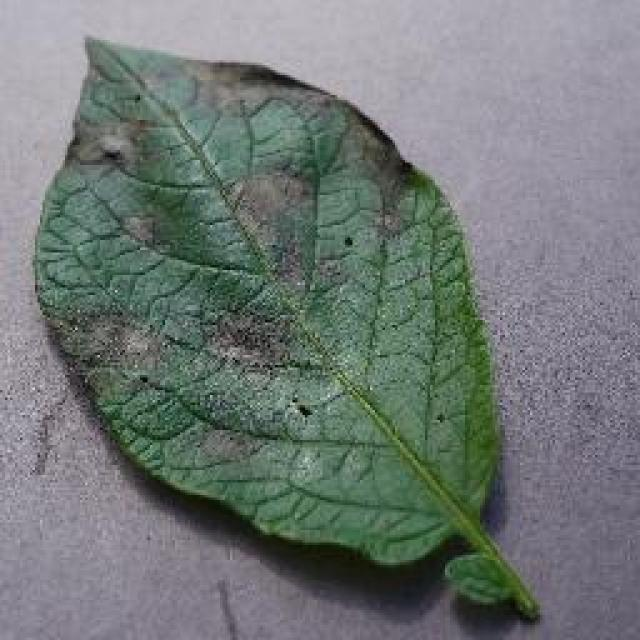Potato: (30, 32, 540, 620)
